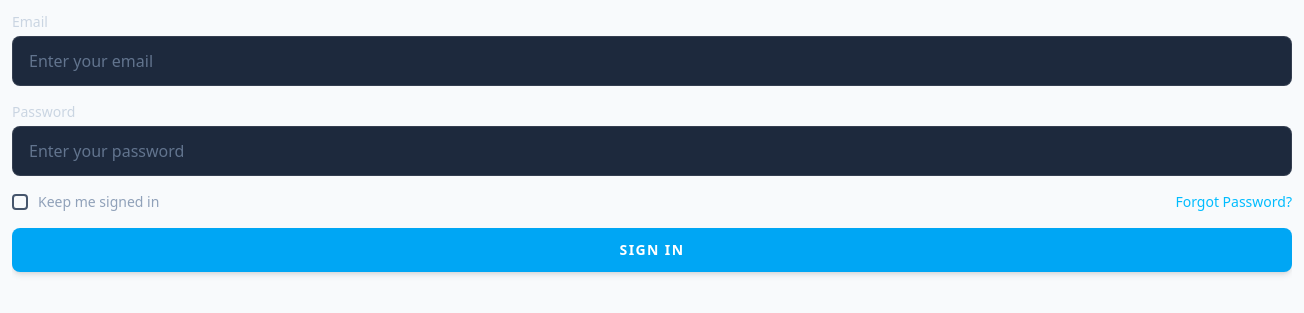
Login Component › shows an error message when password is empty and form is submitted
Type "test@test.com" into the field with placeholder "Enter your email".
click(652, 61); type("test@test.com")  # box left=12, top=36, right=1292, bottom=86
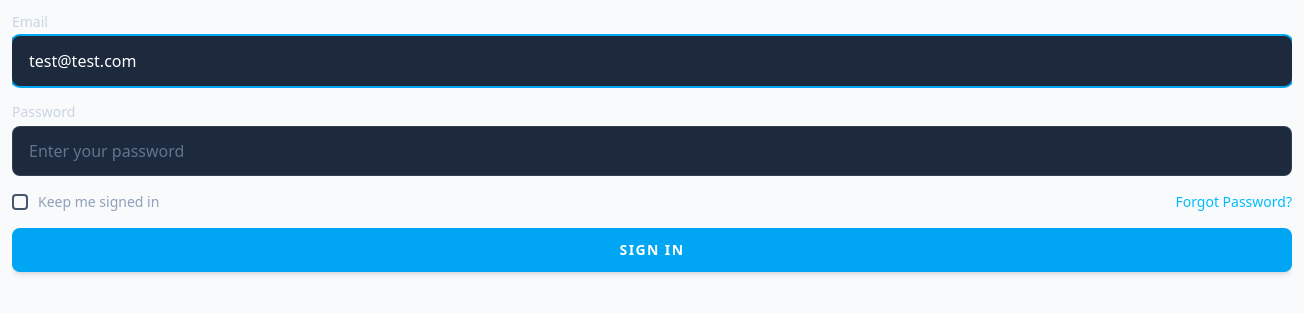
Click the button "Sign In".
click(652, 250)  # box left=12, top=228, right=1292, bottom=272
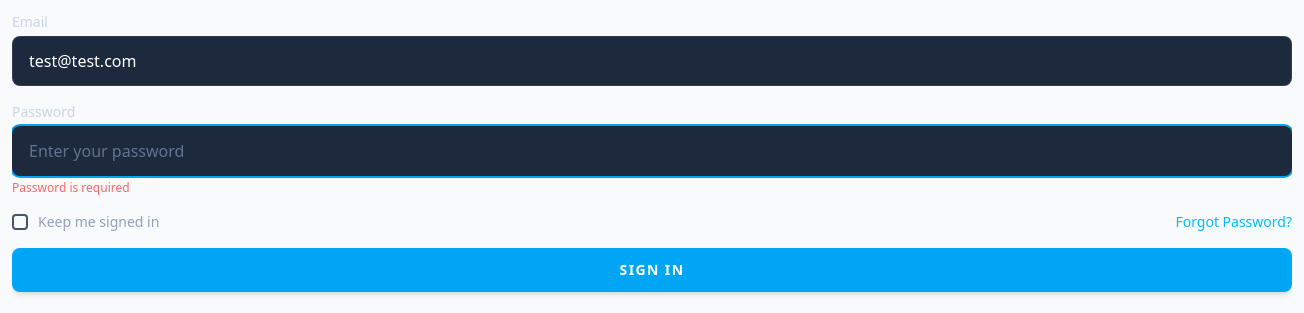
Result: the text "Password is required" is shown at left=12, top=179, right=130, bottom=196
